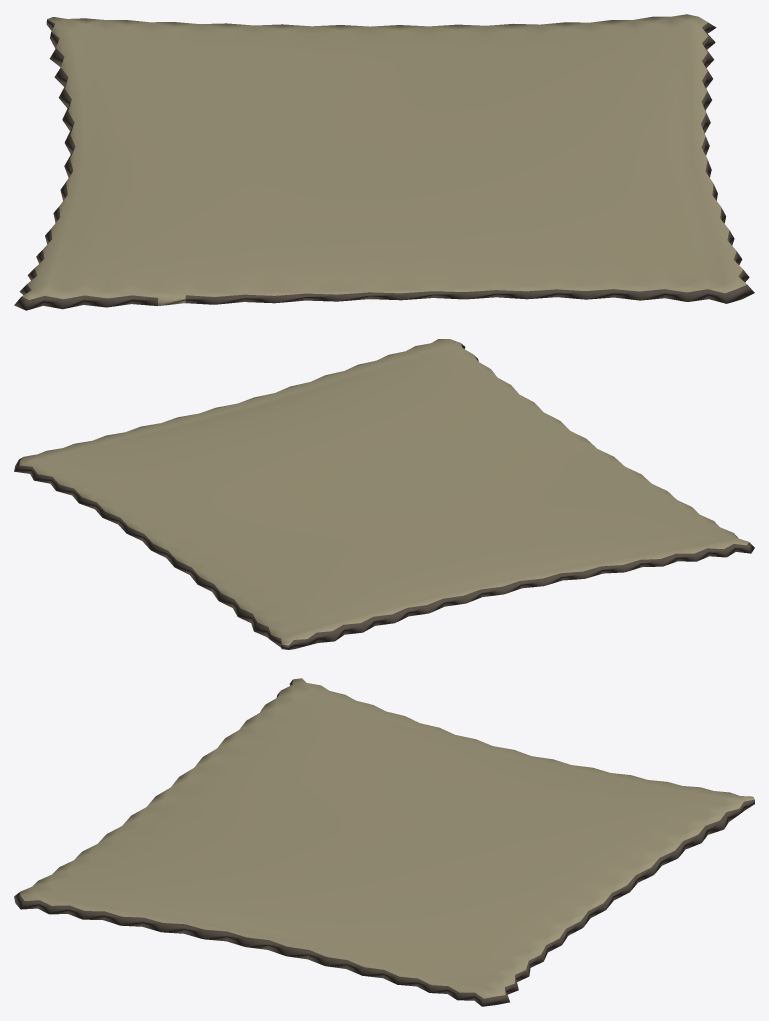
The model's file is Picnic.fbx.
3 views of the same model, one above another, from view 1: azimuth 30°, elevation 25°; view 2: azimuth 150°, elevation 25°; view 3: azimuth 270°, elevation 25° (orthographic). The views are drawn at different scales.
Parts seen in each view (by area): view 1: Picnic; view 2: Picnic; view 3: Picnic.
Boxes of the visible parts, x1,y1,x2,y2 form: Picnic: (14,14,754,310); Picnic: (14,339,754,649); Picnic: (14,678,754,1006).
Bounding box in the file's own units: 743 × 12.32 × 717.
